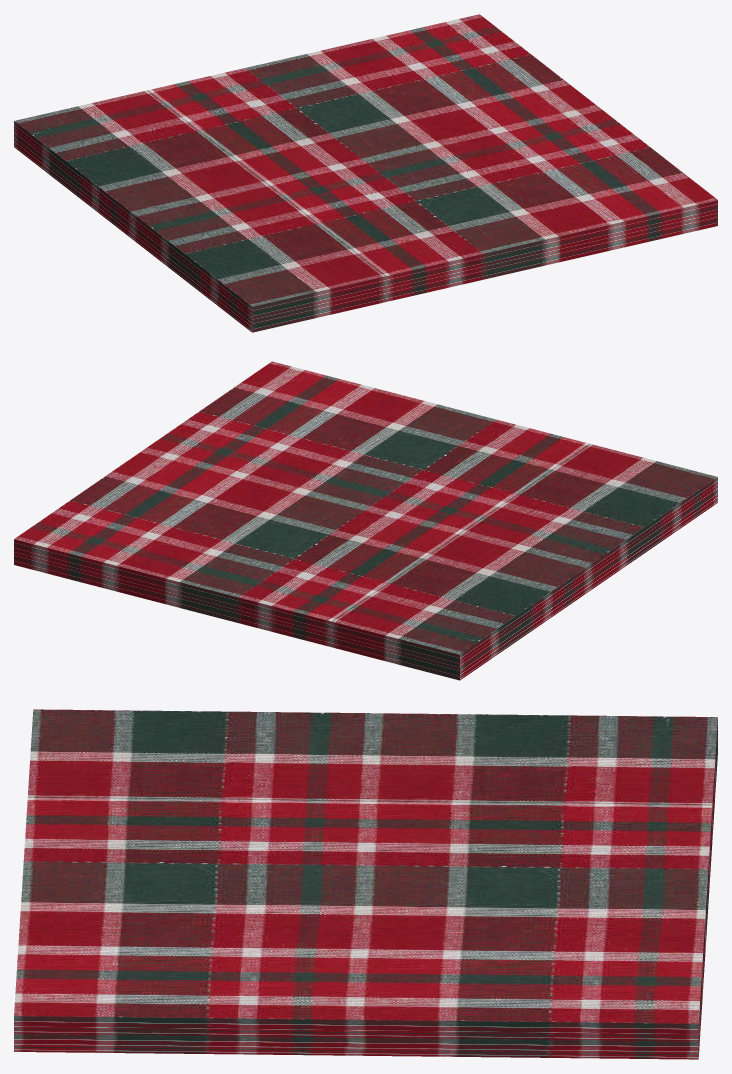
Rendered from Kain_Bekas.fbx.
3 views of the same model, one above another, from view 1: azimuth 30°, elevation 25°; view 2: azimuth 150°, elevation 25°; view 3: azimuth 270°, elevation 25° (orthographic). The views are drawn at different scales.
Visible parts, largest first — view 1: Box001.001; view 2: Box001.001; view 3: Box001.001.
Boxes of the visible parts, x1,y1,x2,y2 form: Box001.001: (14, 14, 717, 332); Box001.001: (14, 361, 717, 680); Box001.001: (14, 709, 717, 1059).
Size of the model in its own units: 68.08 by 3.62 by 64.43.
